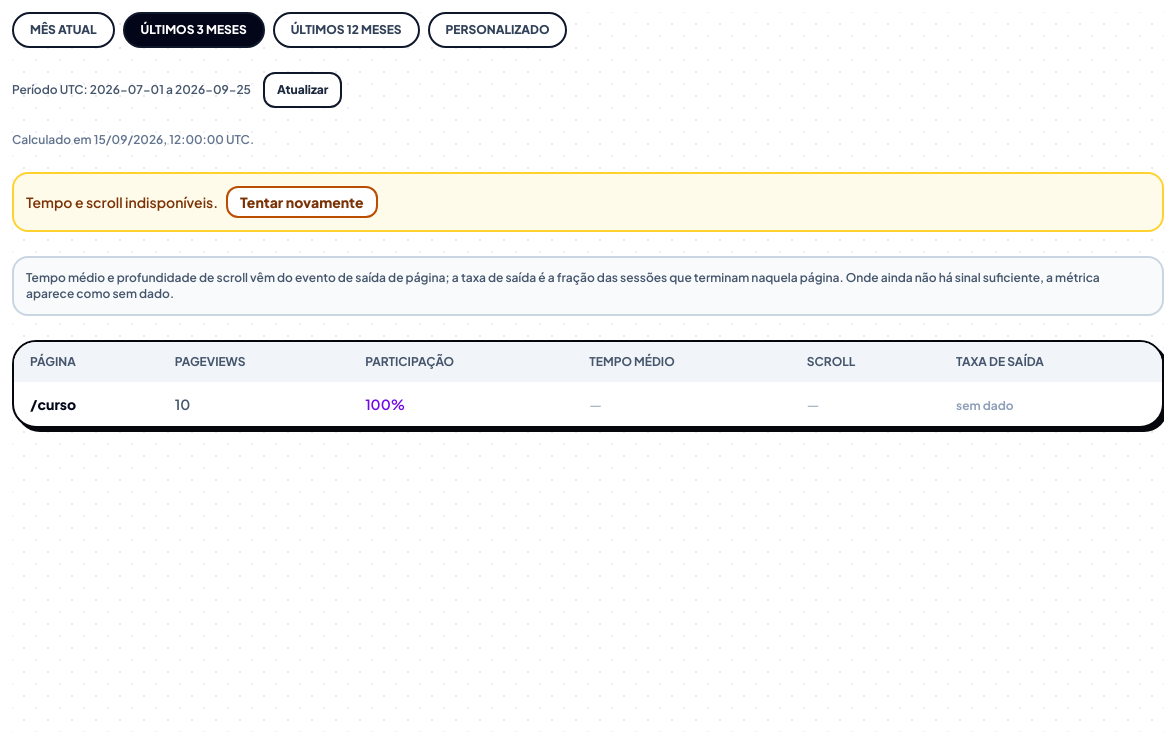
Test: Páginas recuperadas › mostra uma indicação por grupo e mantém páginas e pageviews
This screenshot has width=1164, height=732.
Expected: the text "/curso" is shown, x1=14 y1=382 x2=159 y2=426
Expected: the text "Tempo e scroll indisponíveis." is shown, x1=26 y1=192 x2=218 y2=212
Click the button "Tentar novamente" at (302, 202), box x1=226 y1=186 x2=378 y2=218
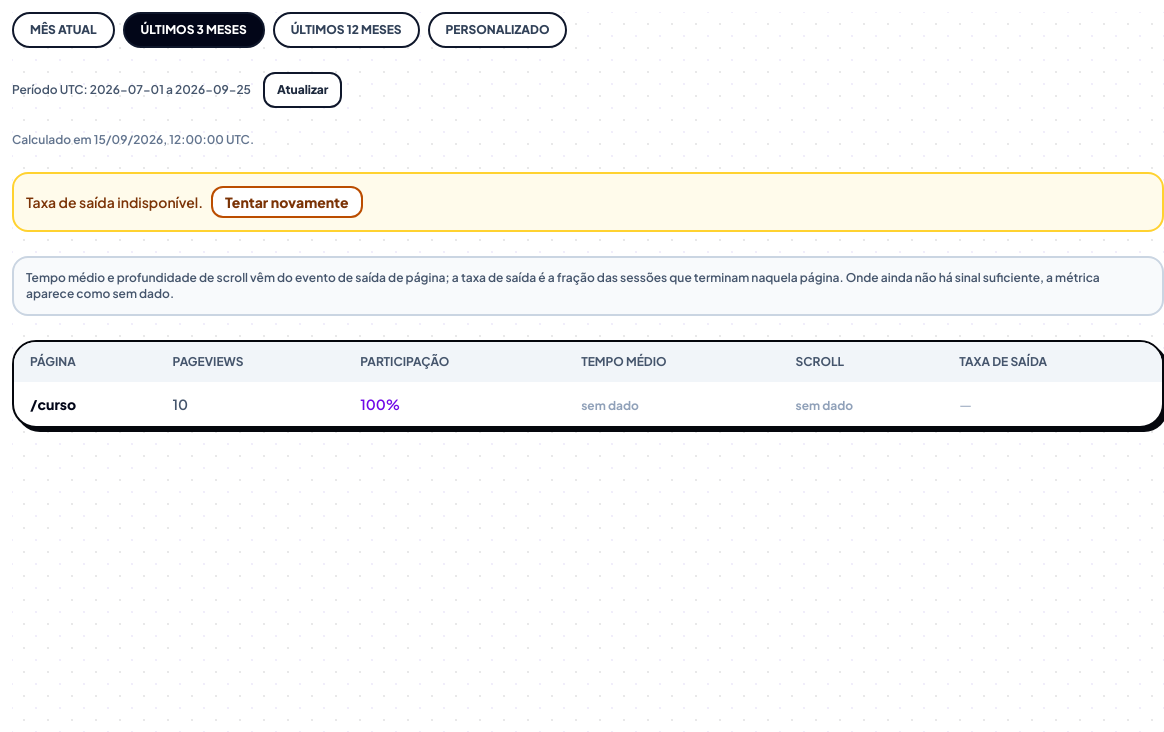
Expected: the text "/curso" is shown, x1=14 y1=382 x2=157 y2=426
Expected: the text "Taxa de saída indisponível." is shown, x1=26 y1=192 x2=203 y2=212
Expected: the text "Tempo e scroll indisponíveis" is gone
